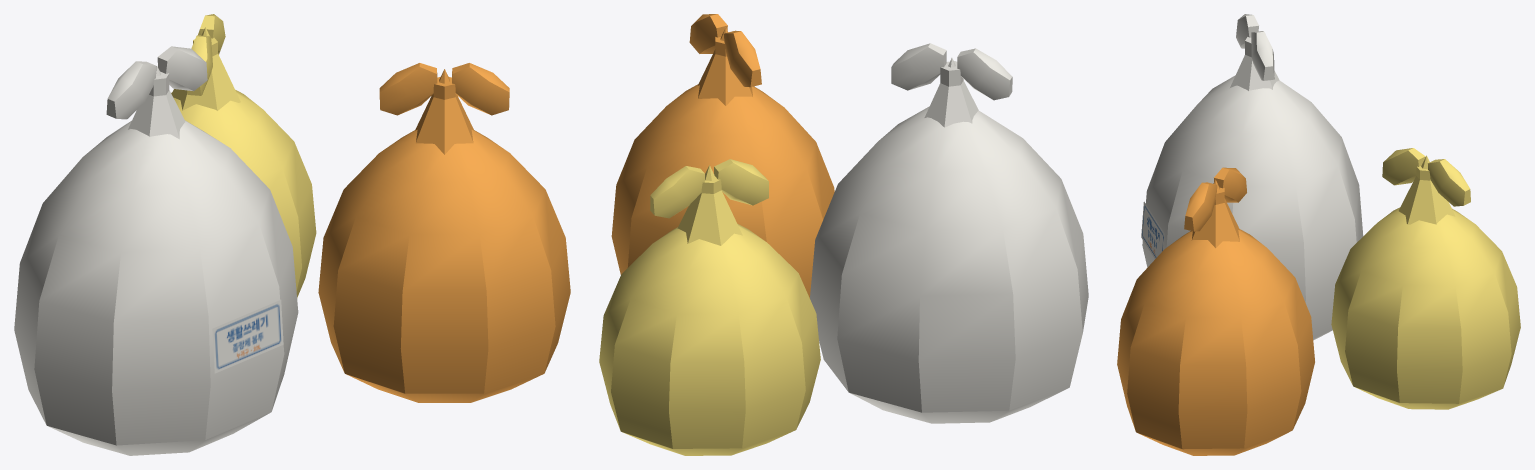
Rendered from SC_Util_Trash_Bags_Small.gltf.
The picture shows the model from 3 angles, left to right: view 1: azimuth 30°, elevation 25°; view 2: azimuth 150°, elevation 25°; view 3: azimuth 270°, elevation 25°; orthographic projection. The views are drawn at different scales.
Visible parts, largest first — view 1: SC_Util_Trash_Bags_Small; view 2: SC_Util_Trash_Bags_Small; view 3: SC_Util_Trash_Bags_Small.
Part boxes in pixels (left/top/right/bottom): SC_Util_Trash_Bags_Small: left=14, top=14, right=570, bottom=455; SC_Util_Trash_Bags_Small: left=599, top=14, right=1088, bottom=455; SC_Util_Trash_Bags_Small: left=1117, top=14, right=1520, bottom=455.
Bounding box in the file's own units: 0.7179 × 0.5097 × 0.6122.
2 materials, 2 textured.
